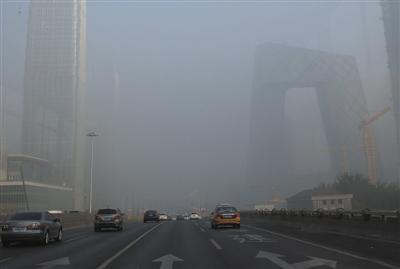car: (1, 210, 63, 246), (211, 203, 241, 229), (94, 208, 125, 231), (144, 209, 159, 223), (190, 212, 202, 220), (158, 213, 168, 221), (176, 215, 185, 221)
